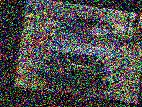car: (37, 10, 128, 90)
